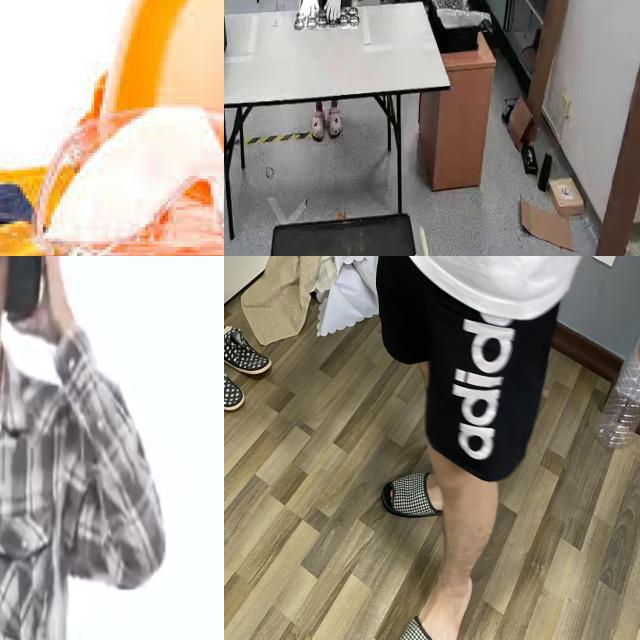Ear-protection: (0, 256, 50, 408)
Sandals: (374, 570, 488, 640), (376, 467, 466, 523)
glasses: (28, 105, 224, 256)
hand_glove: (322, 0, 342, 30), (300, 0, 319, 27)
head_helmet: (62, 0, 224, 256)
